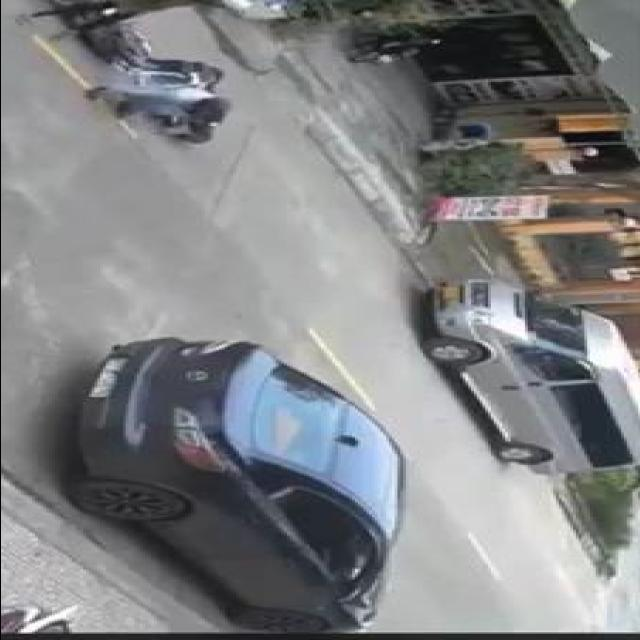accident: (18, 0, 278, 148)
